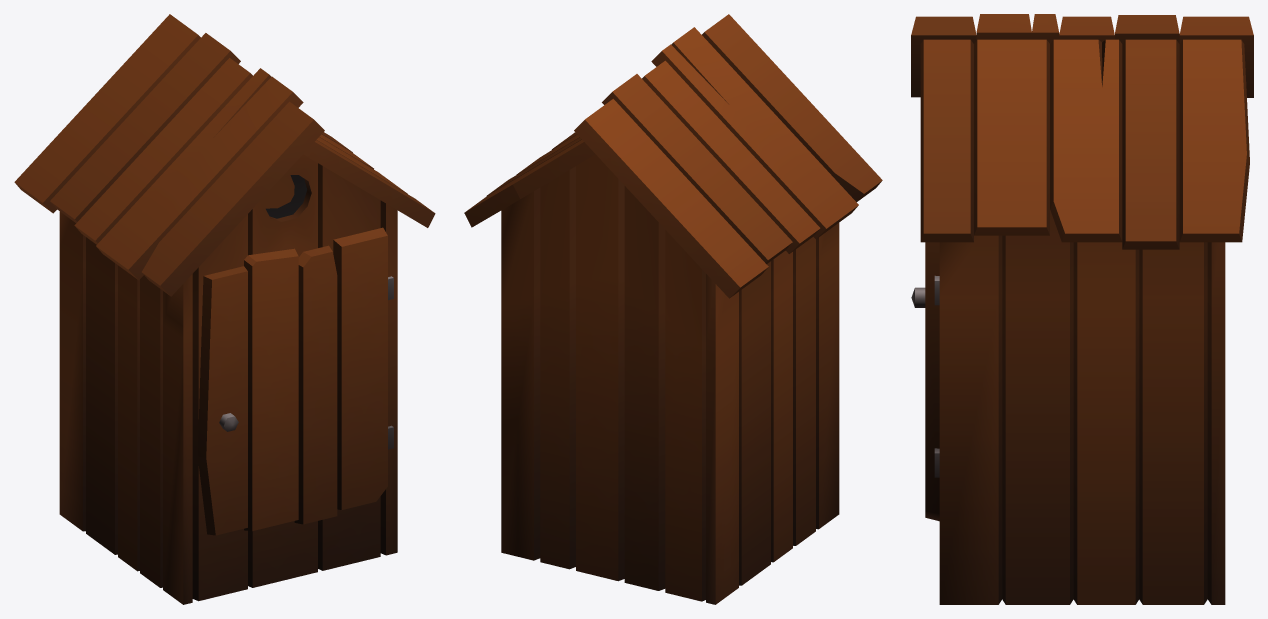
Rendered from Outhouse_1A.fbx.
The picture shows the model from 3 angles, left to right: view 1: azimuth 30°, elevation 25°; view 2: azimuth 150°, elevation 25°; view 3: azimuth 270°, elevation 25°; orthographic projection. The views are drawn at different scales.
Visible parts, largest first — view 1: Outhouse_1A; view 2: Outhouse_1A; view 3: Outhouse_1A.
Part boxes in pixels (<box>): Outhouse_1A: <box>14,14,435,604</box>; Outhouse_1A: <box>464,14,882,604</box>; Outhouse_1A: <box>911,14,1253,604</box>.
Size of the model in its own units: 202 by 314 by 180.
